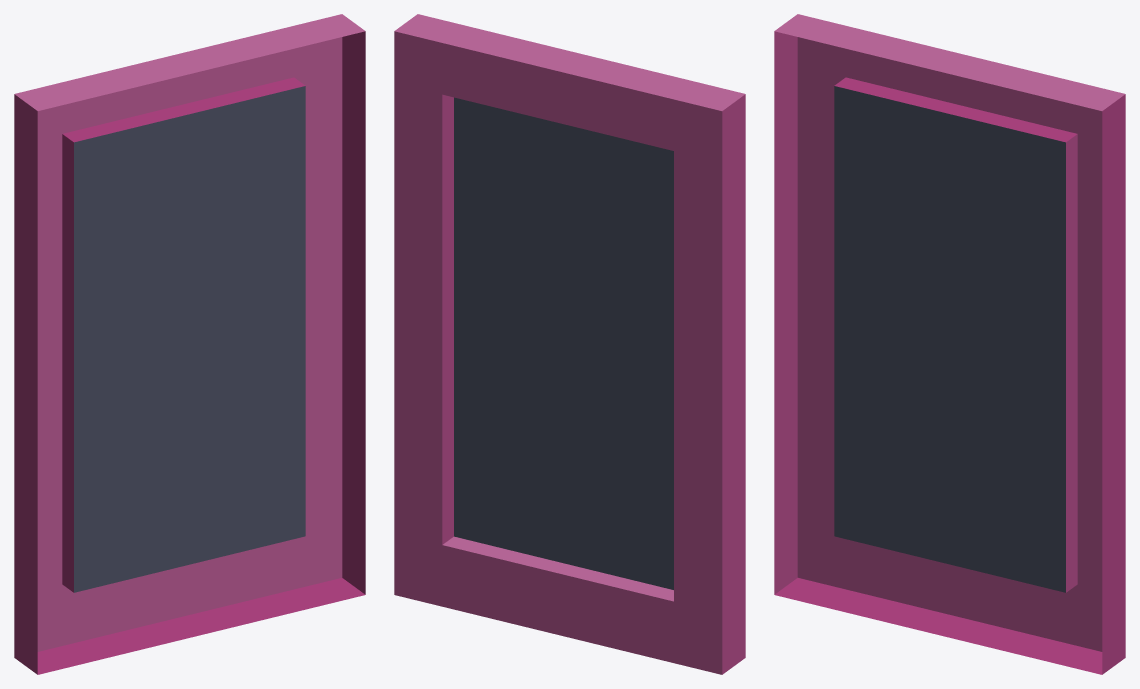
Rendered from squidgame_props_platform_decoration3_pink.fbx.
The picture shows the model from 3 angles, left to right: view 1: azimuth 30°, elevation 25°; view 2: azimuth 150°, elevation 25°; view 3: azimuth 330°, elevation 25°; orthographic projection.
Visible parts, largest first — view 1: squidgame_props_platform_decoration3_pink; view 2: squidgame_props_platform_decoration3_pink; view 3: squidgame_props_platform_decoration3_pink.
Boxes of the visible parts, x1,y1,x2,y2 form: squidgame_props_platform_decoration3_pink: (14, 14, 365, 674); squidgame_props_platform_decoration3_pink: (394, 14, 745, 674); squidgame_props_platform_decoration3_pink: (774, 14, 1125, 674).
Size of the model in its own units: 0.8875 by 1.46 by 0.1104.
